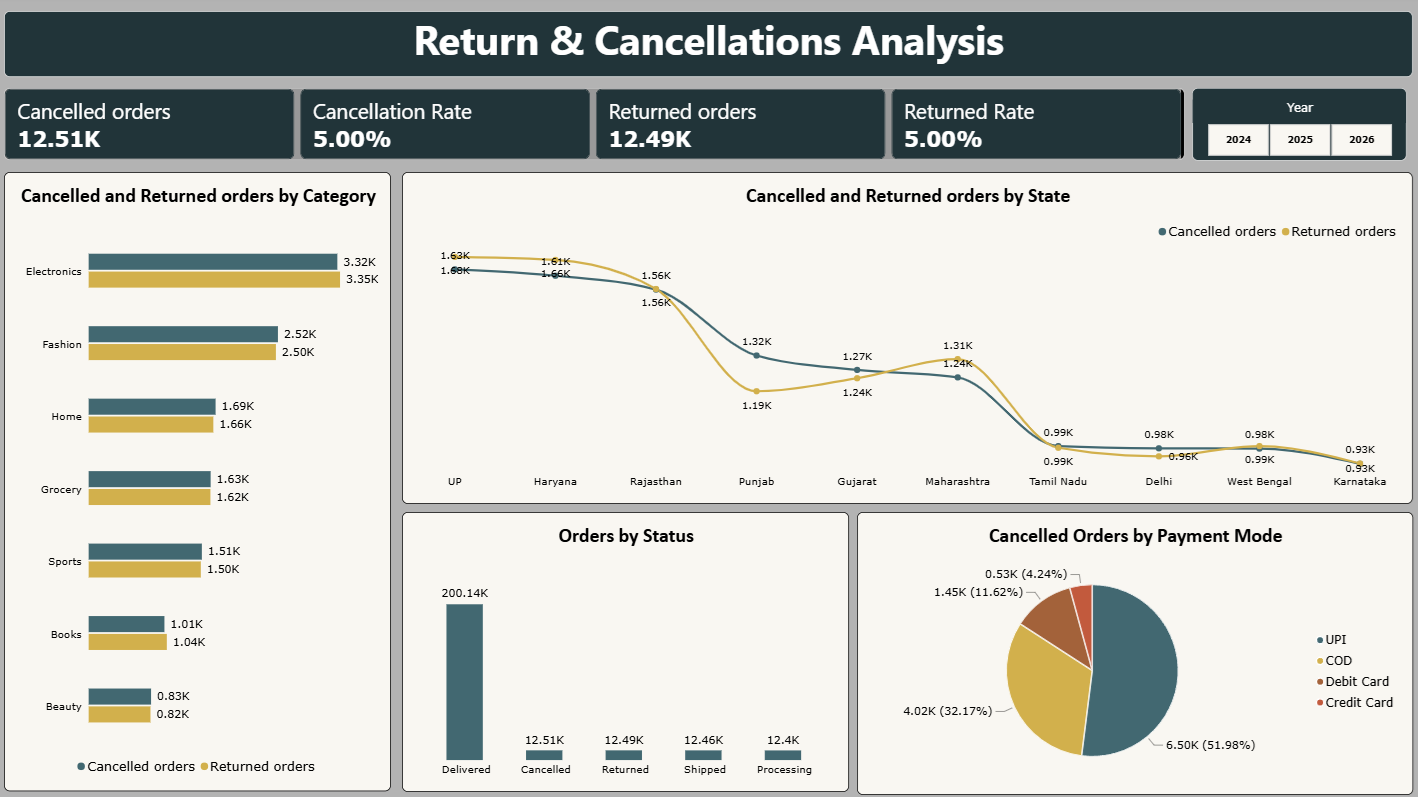

The dashboard page shown, as its layout file describes it:
{"tool":"powerbi","page":{"name":"Return & Cancellations Analysis","canvas":[1920,1080],"ordinal":3},"visuals":[{"type":"textbox","box":[10.8,20.2,1897.4,88.9],"z":0},{"type":"cardVisual","fields":{"Data":["Measure.Cancelled orders","Measure.Cancellation Rate","Measure.Returned orders","Measure.Returned Rate"]},"box":[10.5,124,1589.8,97.1],"z":1000},{"type":"clusteredBarChart","title":"Cancelled and Returned orders by Category","fields":{"Category":["products.Category"],"Y":["Measure.Cancelled orders","Measure.Returned orders"]},"box":[10.5,237.6,521.5,833.7],"z":2000},{"type":"pieChart","title":"Cancelled Orders by Payment Mode","fields":{"Category":["sales.Payment_Mode"],"Y":["Measure.Cancelled orders"]},"box":[1159.5,694.8,748.6,381],"z":3000},{"type":"clusteredColumnChart","title":"Orders by Status","fields":{"Category":["sales.Order_Status"],"Y":["CountNonNull(sales.Order_Status)"]},"box":[546.7,694.9,601.9,377.1],"z":4000},{"type":"lineChart","title":"Cancelled and Returned orders by State","fields":{"Category":["sales.State"],"Y":["Measure.Cancelled orders","Measure.Returned orders"]},"box":[546.9,237.6,1361.2,446.8],"z":5000},{"type":"slicer","title":"Year","fields":{"Values":["sales.Order_Date.Variation.Date Hierarchy.Year"]},"box":[1610.8,124.3,289,97.6],"z":6000}]}

Visuals, with their boxes in screenshot pixels (x1, y1, x2, y2), scaled from the page's 1920x1080 canvas onto the 1426x797 screenshot:
textbox: 8 15 1417 81
cardVisual - Measure.Cancelled orders x Measure.Cancellation Rate: 8 92 1189 163
"Cancelled and Returned orders by Category" clusteredBarChart: 8 175 395 791
"Cancelled Orders by Payment Mode" pieChart: 861 513 1417 794
"Orders by Status" clusteredColumnChart: 406 513 853 791
"Cancelled and Returned orders by State" lineChart: 406 175 1417 505
"Year" slicer: 1196 92 1411 164
